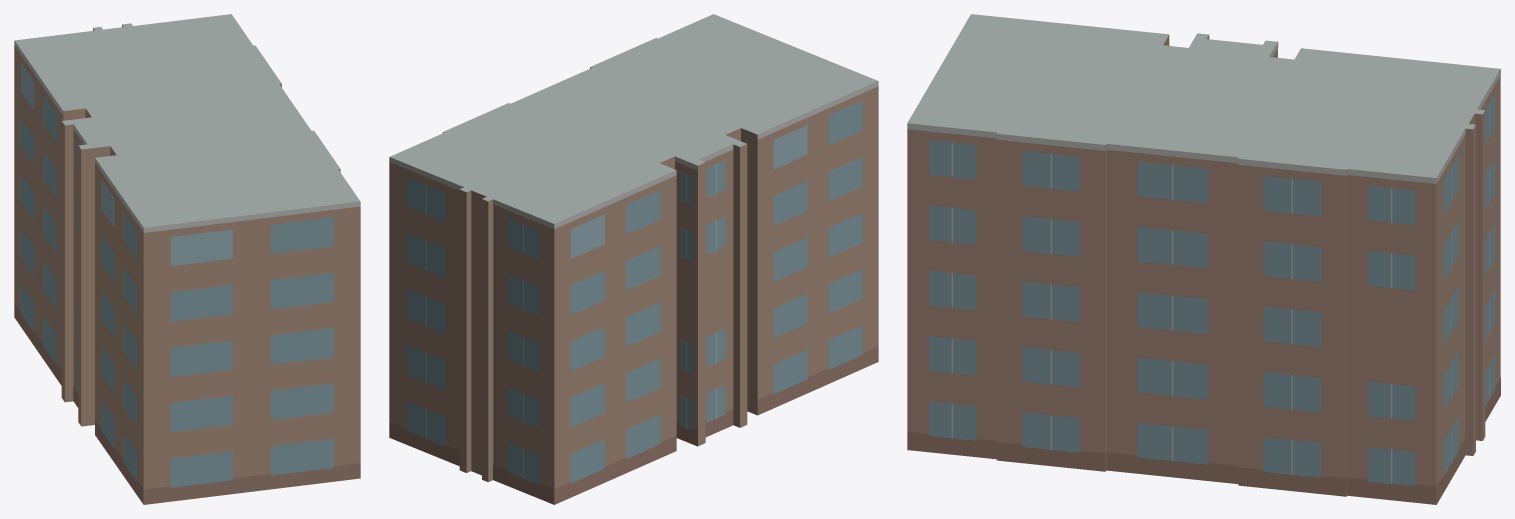
File: survey-upis-32873133.glb
3 renders of one model, left to right at view 1: azimuth 30°, elevation 25°; view 2: azimuth 150°, elevation 25°; view 3: azimuth 270°, elevation 25°, orthographic. The views are drawn at different scales.
Visible parts, largest first — view 1: survey-upis-32873133.tmp; view 2: survey-upis-32873133.tmp; view 3: survey-upis-32873133.tmp.
Part boxes in pixels (x1,y1,x2,y2): survey-upis-32873133.tmp: (14,14,360,504); survey-upis-32873133.tmp: (389,14,878,504); survey-upis-32873133.tmp: (907,14,1500,504).
Bounding box in the file's own units: 14.45 × 13.4 × 22.07.
